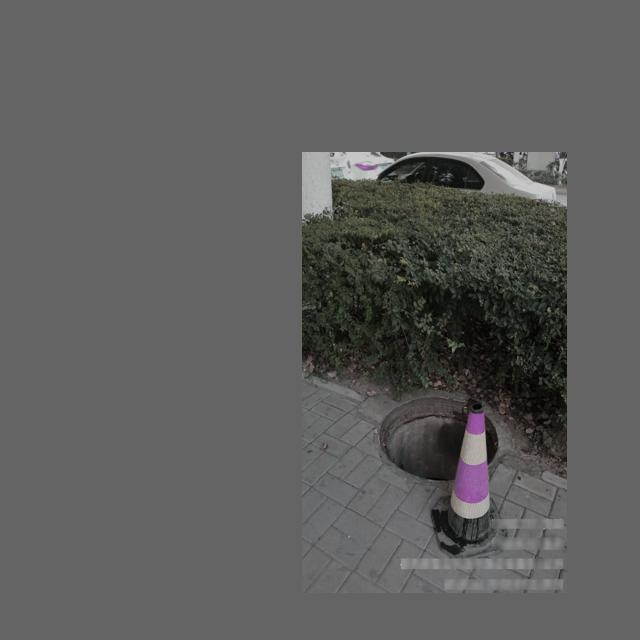lose: (380, 396, 500, 482)
